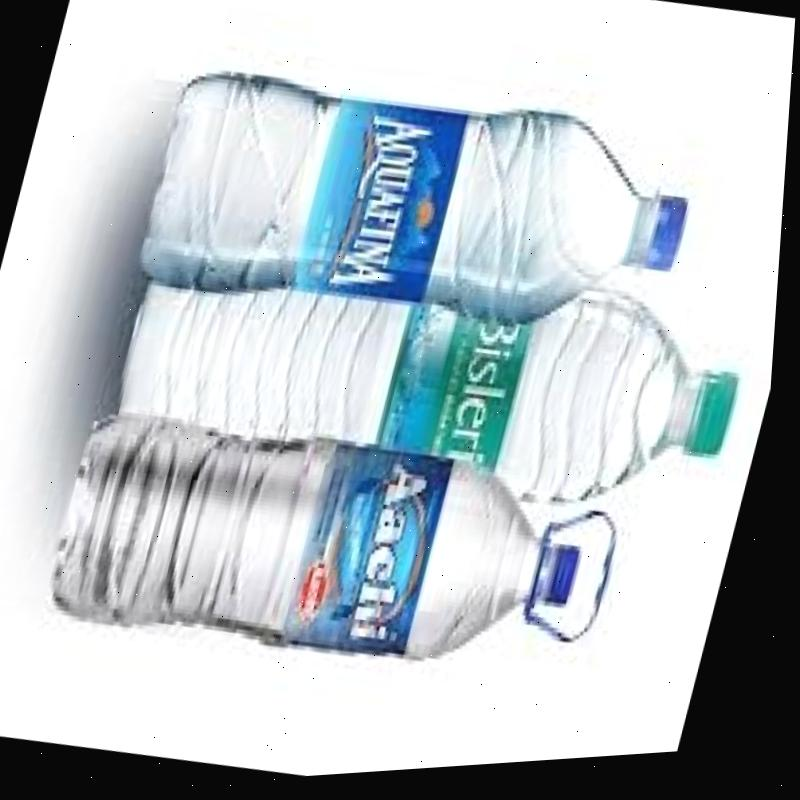botella: (95, 193, 771, 568), (129, 36, 718, 386), (32, 373, 614, 718)
